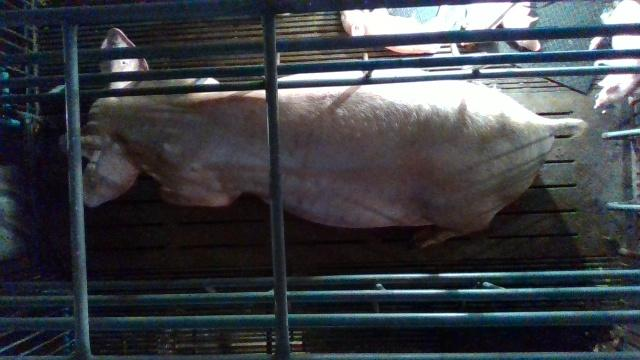piglet: (592, 0, 640, 110), (338, 8, 454, 53), (461, 3, 540, 52)
sow-sit: (62, 26, 588, 248)
